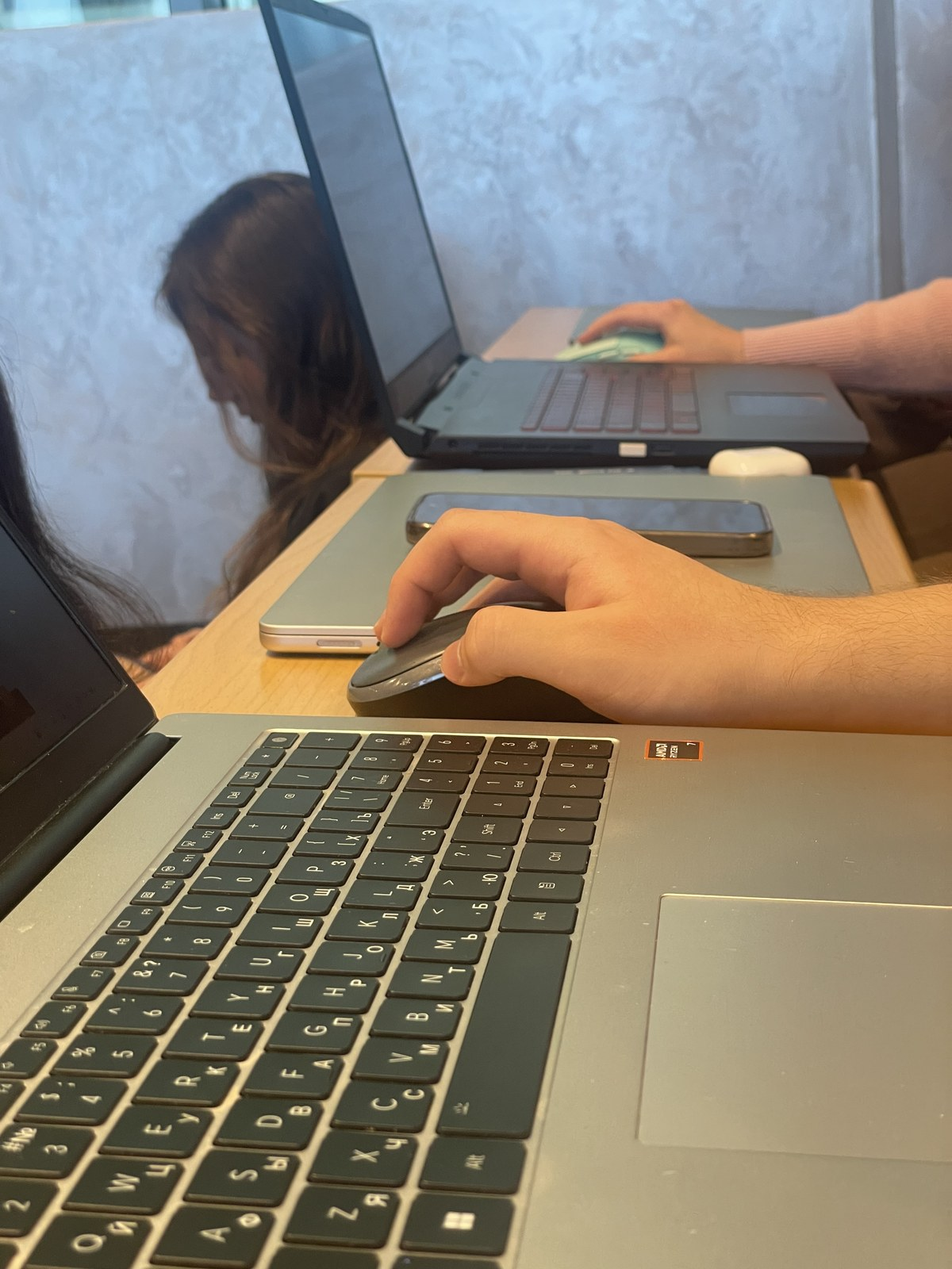cell phone: (411, 491, 767, 563)
laptop: (0, 403, 952, 1269), (255, 0, 875, 465), (260, 471, 892, 653)
